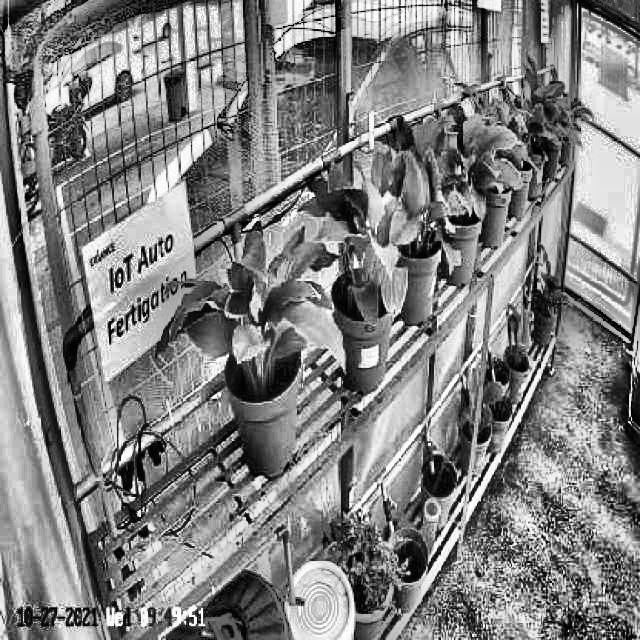plants: (158, 216, 346, 384), (312, 173, 408, 319), (376, 120, 462, 276), (425, 92, 533, 216)
